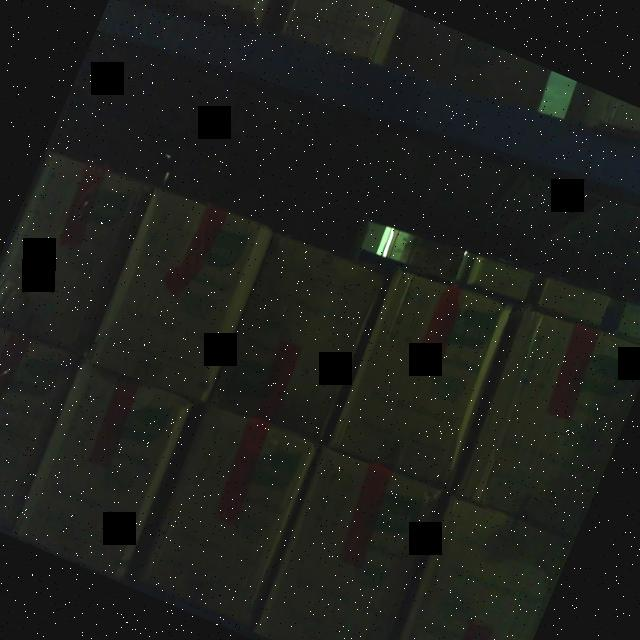box: (76, 173, 282, 414), (441, 300, 640, 548), (320, 258, 521, 501), (121, 399, 319, 634), (200, 218, 396, 452), (0, 354, 196, 584), (238, 445, 445, 640), (0, 138, 159, 361), (363, 495, 570, 640), (0, 312, 80, 534)
